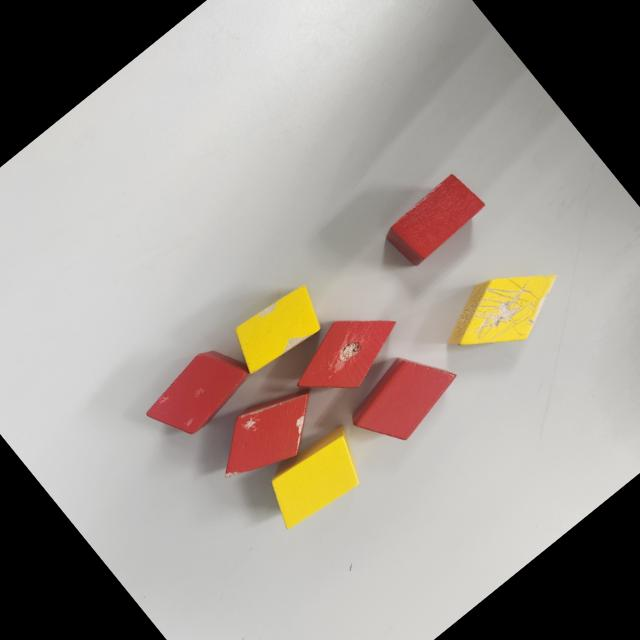broken: (429, 239, 578, 379), (201, 368, 338, 497), (281, 290, 414, 415), (137, 336, 259, 450), (222, 276, 334, 382)
red: (338, 334, 470, 460), (378, 168, 491, 272)
yellow: (250, 416, 380, 539)
